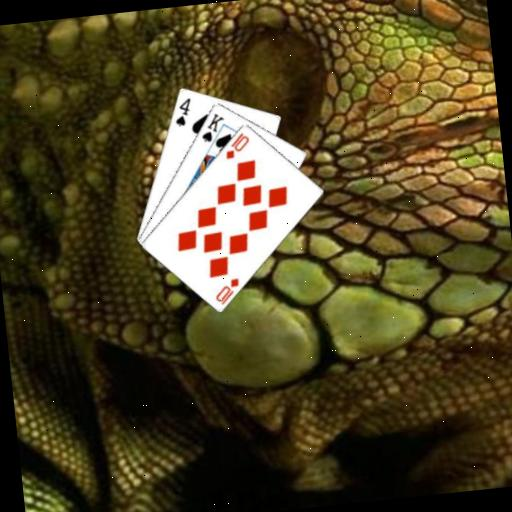10D: (211, 275, 243, 308), (221, 129, 253, 161)
4S: (170, 94, 195, 128)
KS: (196, 110, 228, 145)
